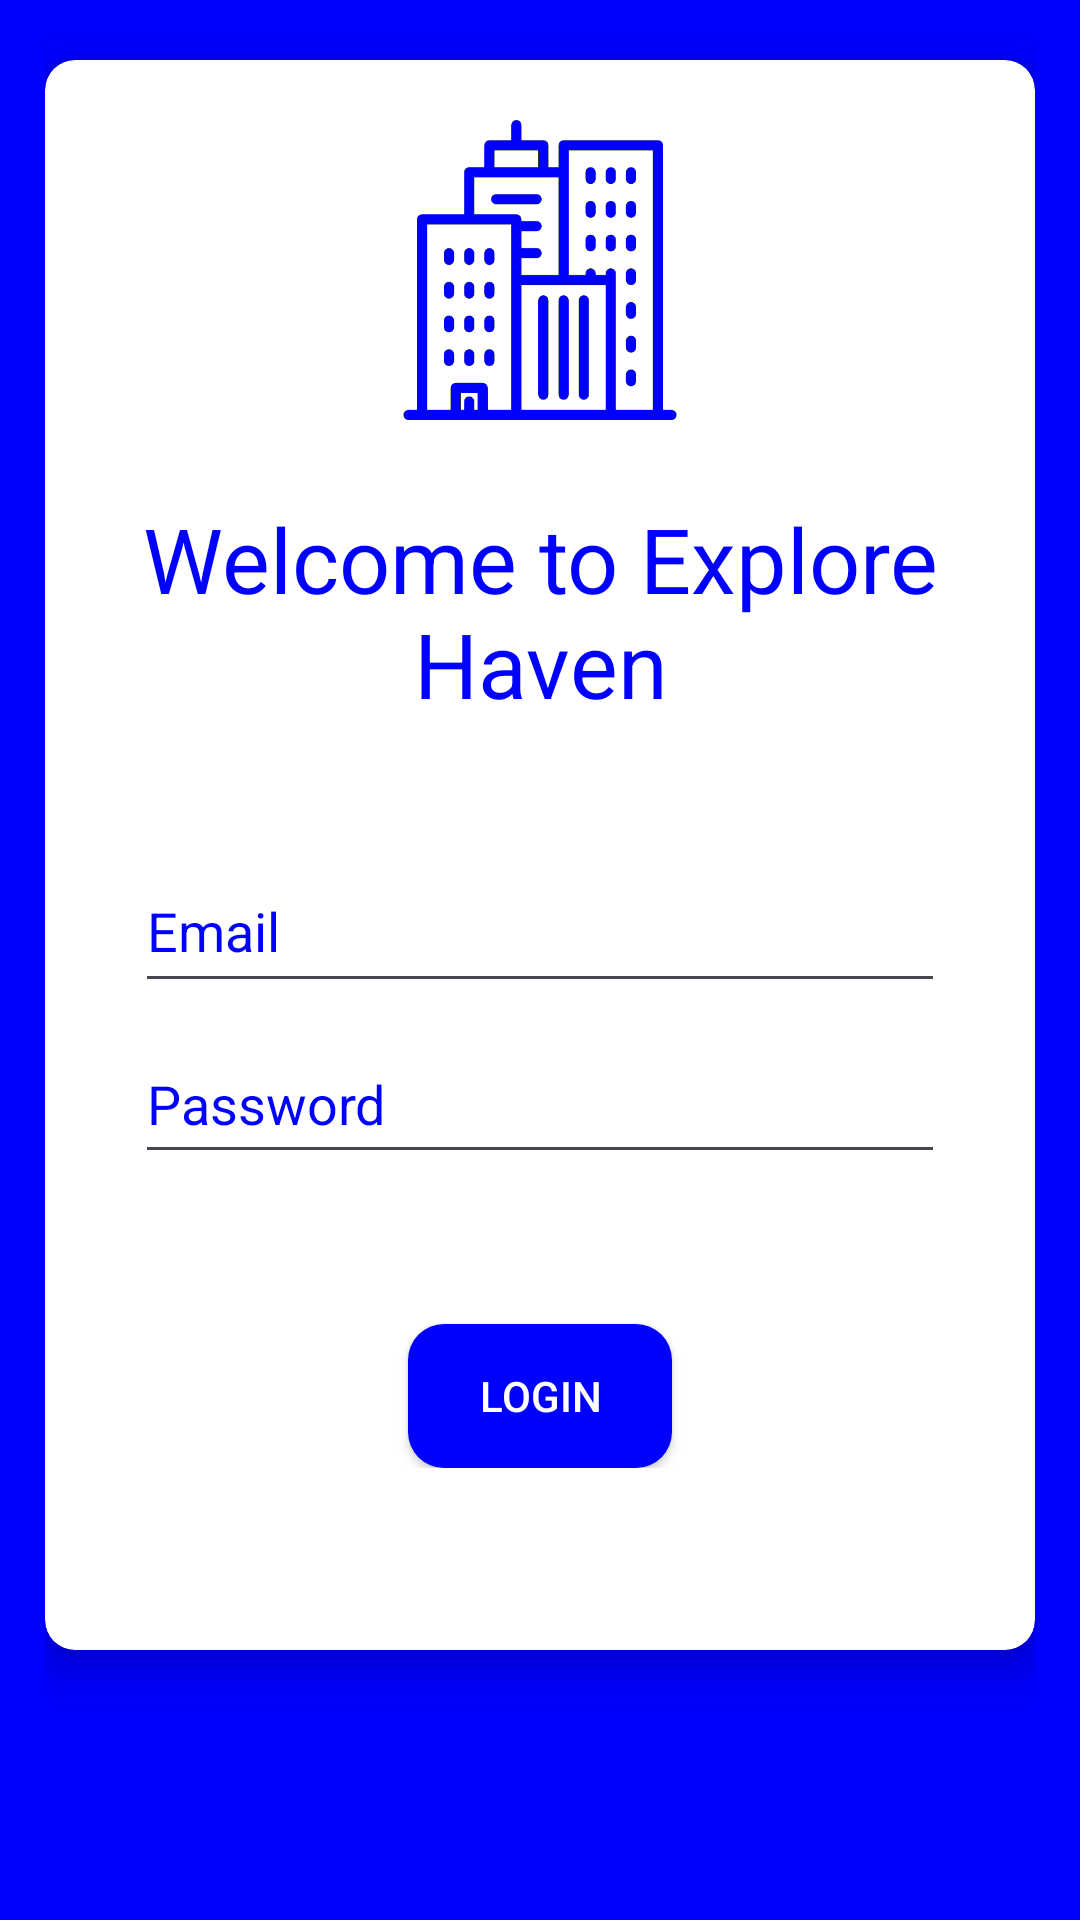

Named icons in this screenshot (1080px×1920px) and their centers, (x=x, y=y):
blueicon: (x=540, y=270)
